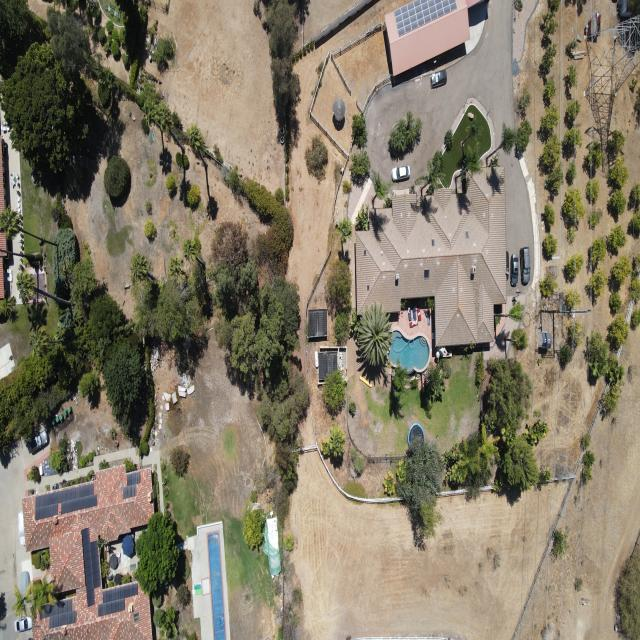solar-panels: (387, 0, 459, 38), (30, 483, 100, 521), (81, 526, 103, 606), (92, 583, 143, 617), (37, 598, 79, 630), (318, 351, 338, 380), (308, 309, 327, 338), (123, 471, 141, 500)
